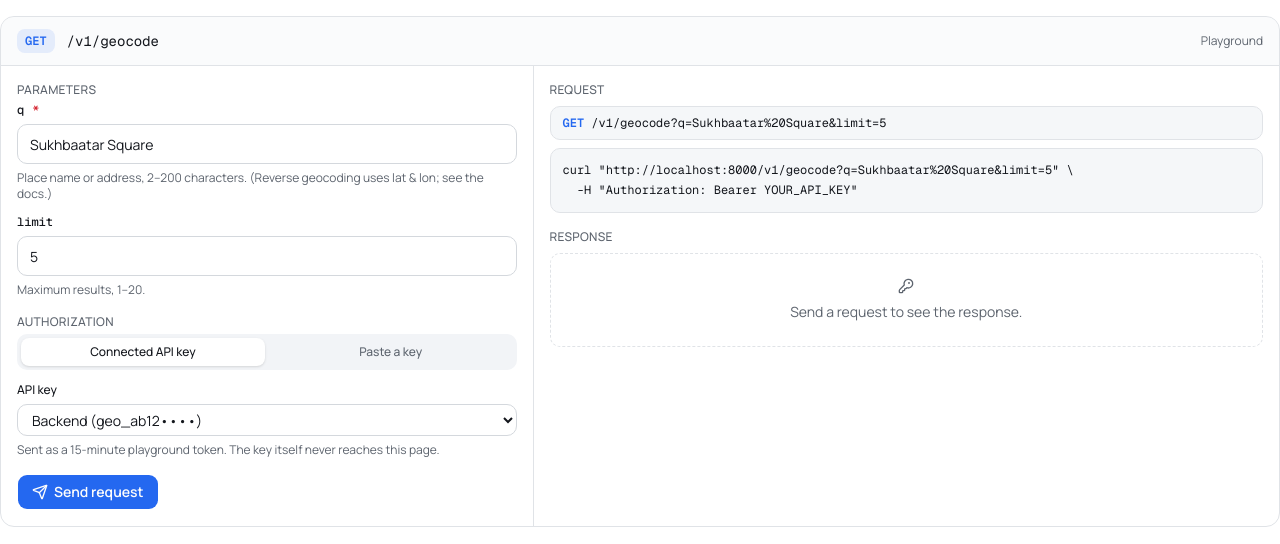
Scenario: Playground › uses a playground token for a connected key
Click the button "Send request". click: point(88, 492)
box: [17, 474, 158, 510]
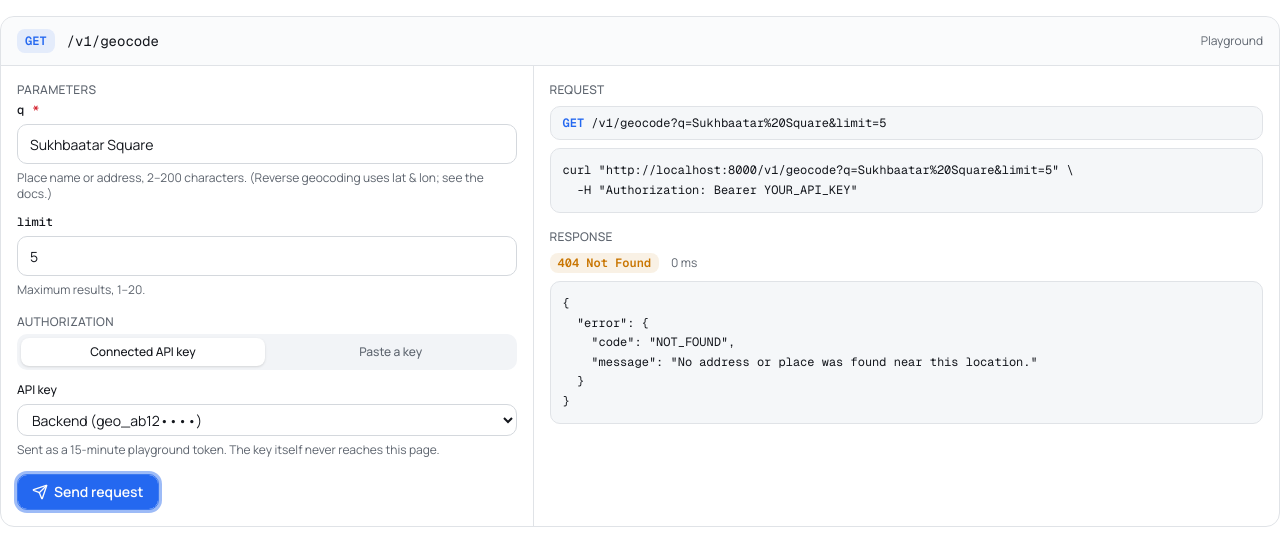
expect the text with test id "status-line" reads "404 Not Found": met, box [558, 255, 651, 271]
